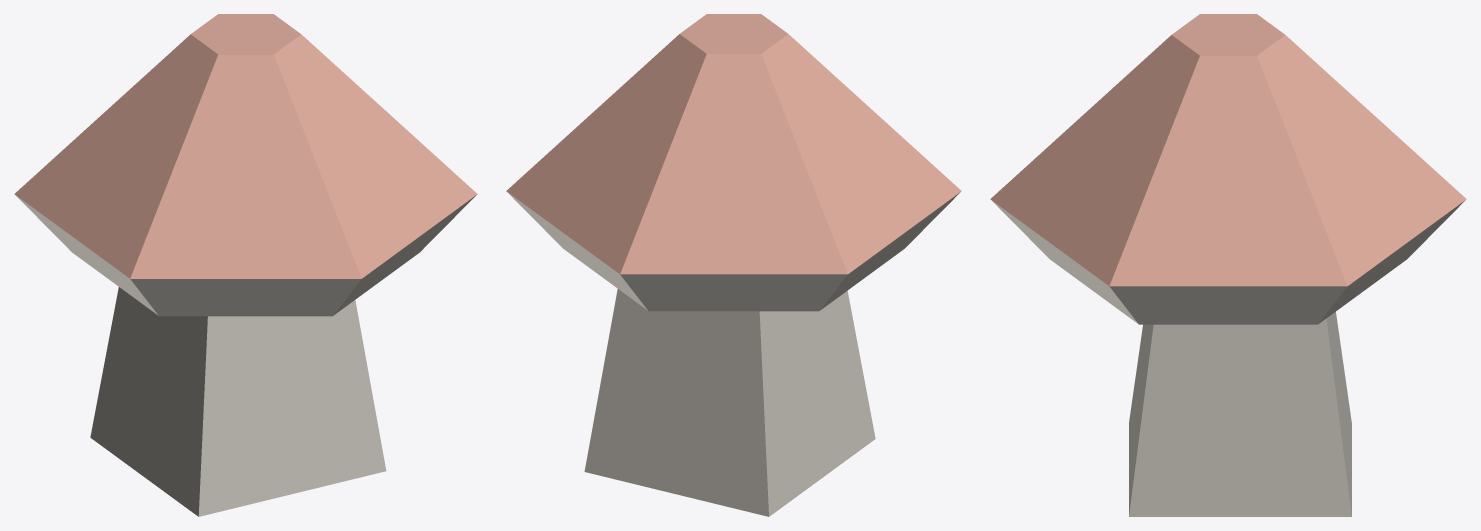
File: mushroom_red.glb
3 renders of one model, left to right at view 1: azimuth 30°, elevation 25°; view 2: azimuth 150°, elevation 25°; view 3: azimuth 270°, elevation 25°, orthographic. The views are drawn at different scales.
Visible parts, largest first — view 1: mushroom_red; view 2: mushroom_red; view 3: mushroom_red.
Boxes of the visible parts, <box> form: mushroom_red: <box>14,14,477,516</box>; mushroom_red: <box>506,14,961,516</box>; mushroom_red: <box>990,14,1466,516</box>.
Bounding box in the file's own units: 6.86 × 8 × 7.92.
